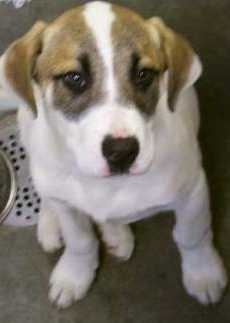dog: (0, 0, 230, 320)
